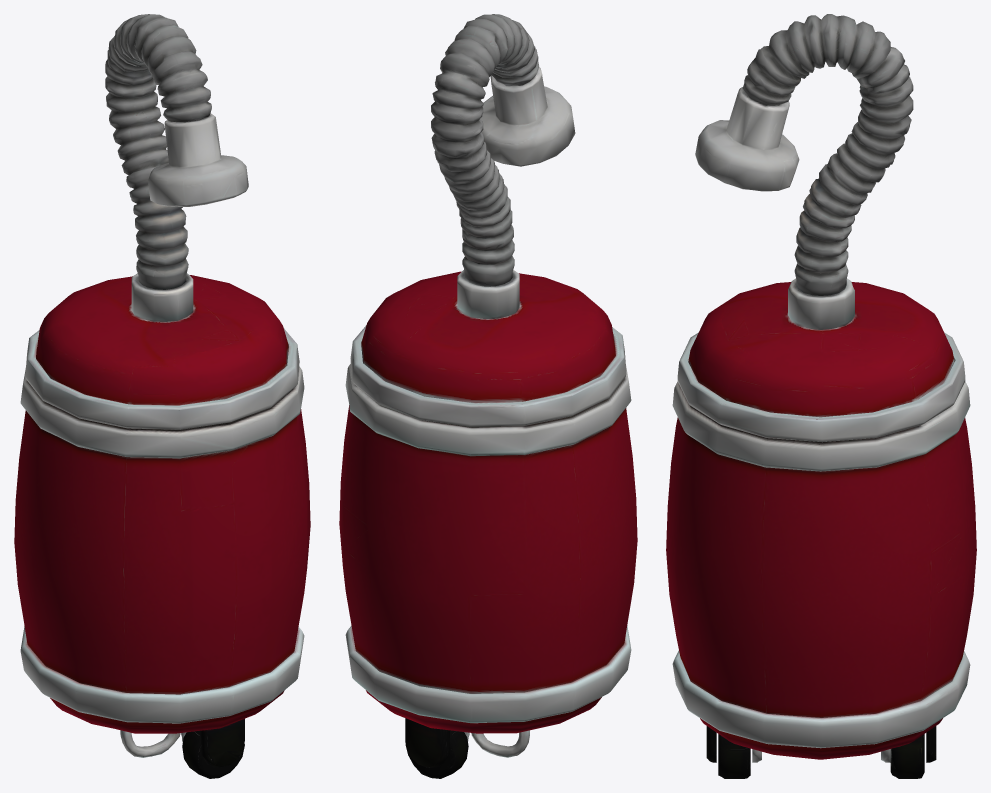
The model's file is retro_vacuum.glb.
3 renders of one model, left to right at view 1: azimuth 30°, elevation 25°; view 2: azimuth 150°, elevation 25°; view 3: azimuth 270°, elevation 25°, orthographic. The views are drawn at different scales.
Parts seen in each view (by area): view 1: tripo_node_eb8d9e9f-5800-4653-8fe1-6f14a236a4df; view 2: tripo_node_eb8d9e9f-5800-4653-8fe1-6f14a236a4df; view 3: tripo_node_eb8d9e9f-5800-4653-8fe1-6f14a236a4df.
Part boxes in pixels (bbox=[...]): tripo_node_eb8d9e9f-5800-4653-8fe1-6f14a236a4df: bbox=[14, 14, 310, 778]; tripo_node_eb8d9e9f-5800-4653-8fe1-6f14a236a4df: bbox=[339, 14, 637, 778]; tripo_node_eb8d9e9f-5800-4653-8fe1-6f14a236a4df: bbox=[666, 14, 976, 778].
Size of the model in its own units: 0.3731 by 0.998 by 0.3731.
1 material, 1 textured.
